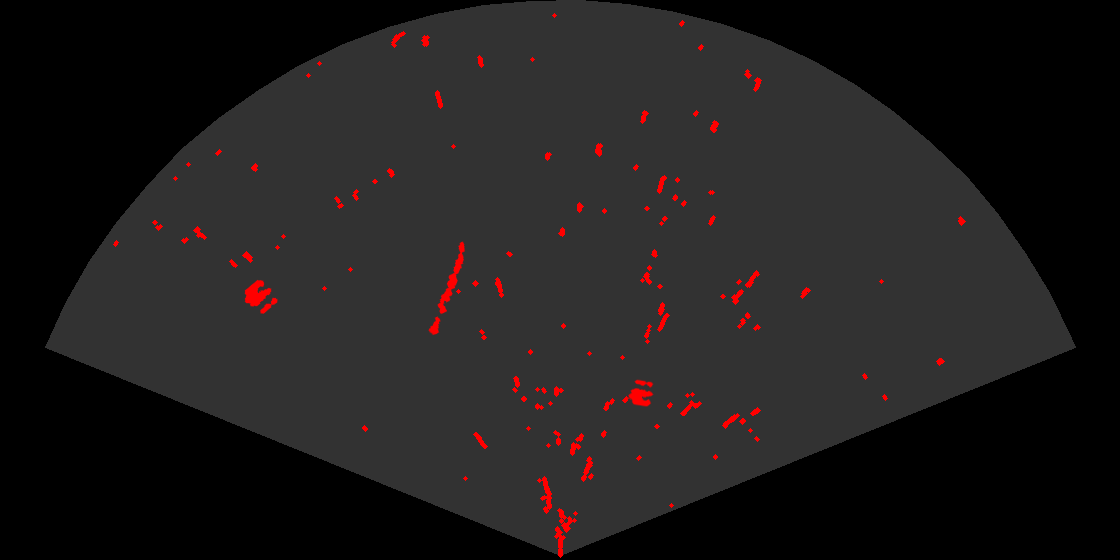ball: (243, 278, 279, 315), (627, 378, 655, 408)
chain: (427, 240, 467, 337)
